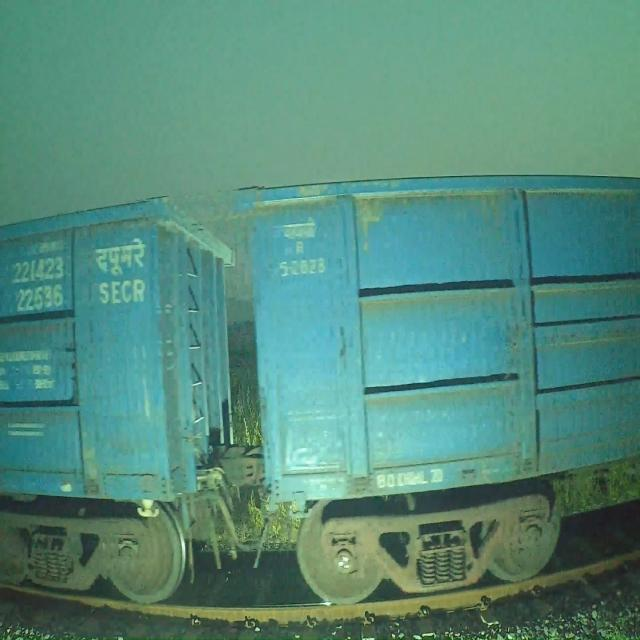WAgon-uic: (235, 174, 639, 606), (0, 194, 238, 603)
uic: (9, 254, 67, 319)
